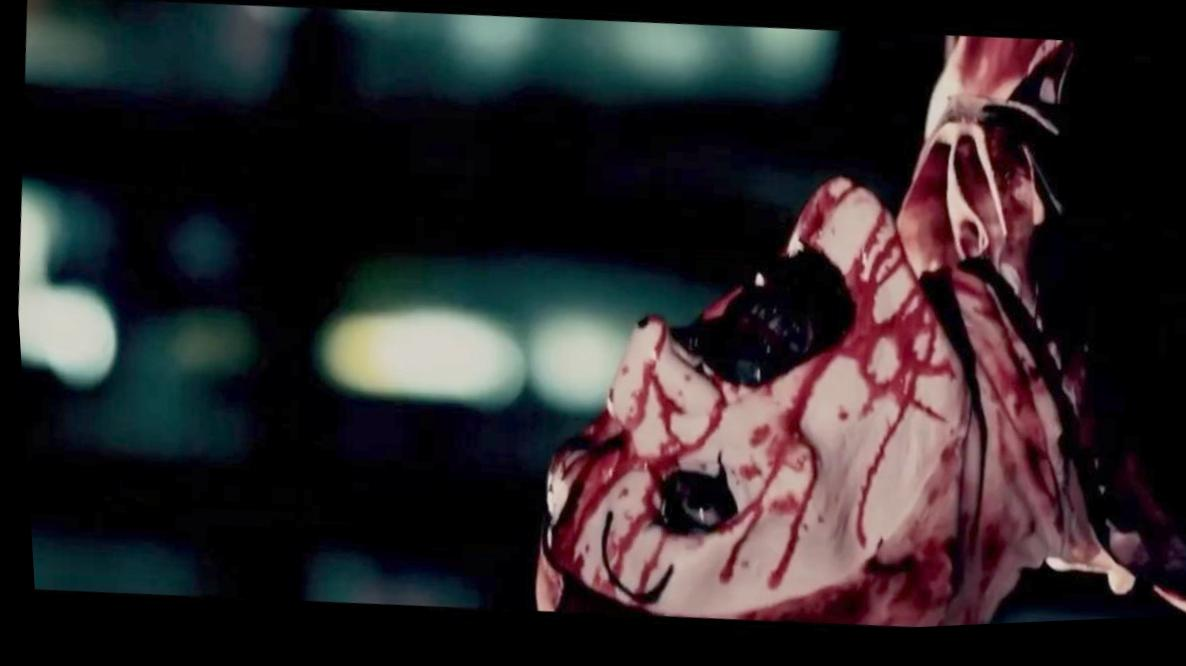Fire: (535, 46, 1148, 635)
